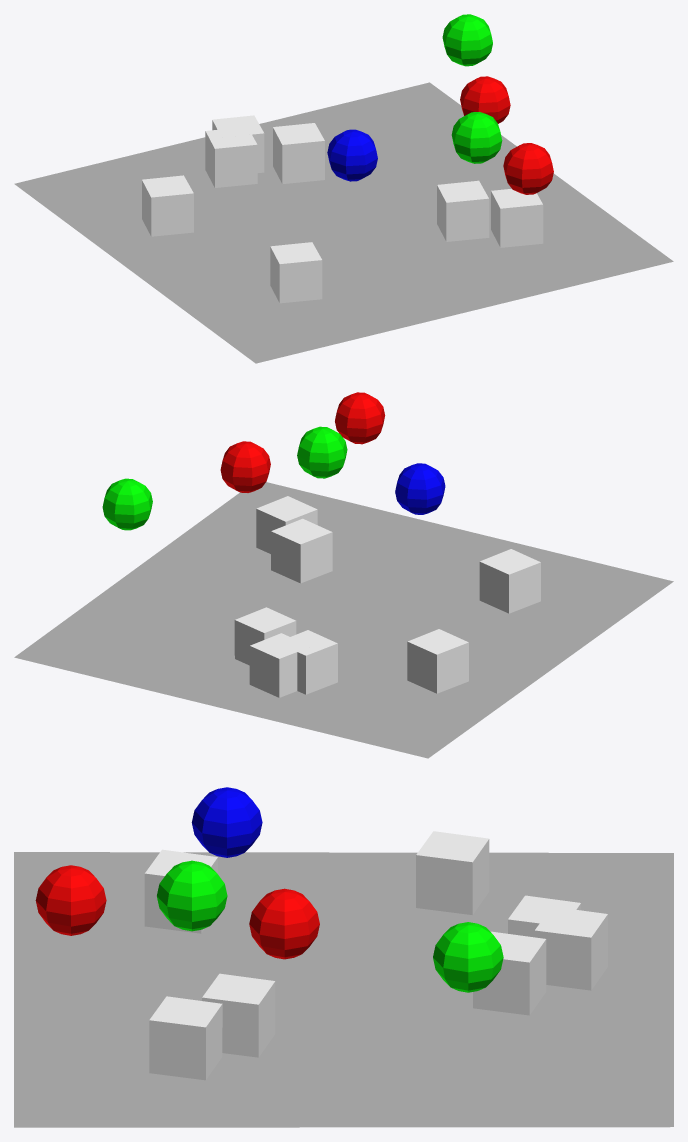
Rendered from Elevated_Combined_Scene.obj.
The picture shows the model from 3 angles, top to bottom: view 1: azimuth 30°, elevation 25°; view 2: azimuth 150°, elevation 25°; view 3: azimuth 270°, elevation 25°; orthographic projection. The views are drawn at different scales.
Parts seen in each view (by area): view 1: floor, cube1, cube3, cube5, cube4, cube6, cube7, sphere3, sphere4, sphere1, sphere2, sphere5 (+1 smaller); view 2: floor, cube1, cube3, cube5, cube2, cube7, sphere2, sphere4, sphere3, sphere5, sphere1, cube4 (+1 smaller); view 3: floor, cube6, cube5, cube2, cube1, cube4, sphere2, sphere4, sphere3, sphere1, sphere5, cube3 (+1 smaller).
Part boxes in pixels (x1=…): floor: x1=14, y1=82, x2=673, y2=363; cube1: x1=437, y1=180, x2=489, y2=241; cube3: x1=270, y1=242, x2=322, y2=303; cube5: x1=142, y1=175, x2=193, y2=236; cube4: x1=273, y1=123, x2=324, y2=183; cube6: x1=491, y1=188, x2=543, y2=247; cube7: x1=205, y1=129, x2=257, y2=187; sphere3: x1=327, y1=129, x2=377, y2=181; sphere4: x1=442, y1=14, x2=492, y2=66; sphere1: x1=503, y1=143, x2=553, y2=194; sphere2: x1=451, y1=112, x2=502, y2=163; sphere5: x1=460, y1=76, x2=510, y2=123; floor: x1=14, y1=482, x2=673, y2=758; cube1: x1=271, y1=518, x2=332, y2=583; cube3: x1=479, y1=549, x2=540, y2=613; cube5: x1=407, y1=629, x2=468, y2=693; cube2: x1=249, y1=633, x2=310, y2=697; cube7: x1=290, y1=630, x2=337, y2=694; sphere2: x1=297, y1=426, x2=347, y2=478; sphere4: x1=102, y1=478, x2=152, y2=530; sphere3: x1=395, y1=463, x2=445, y2=514; sphere5: x1=220, y1=441, x2=270, y2=492; sphere1: x1=335, y1=392, x2=385, y2=444; cube4: x1=234, y1=607, x2=296, y2=665; floor: x1=14, y1=852, x2=673, y2=1127; cube6: x1=149, y1=996, x2=222, y2=1080; cube5: x1=416, y1=831, x2=489, y2=914; cube2: x1=534, y1=906, x2=607, y2=990; cube1: x1=202, y1=973, x2=275, y2=1057; cube4: x1=473, y1=931, x2=546, y2=1015; sphere2: x1=157, y1=860, x2=227, y2=931; sphere4: x1=433, y1=922, x2=503, y2=992; sphere3: x1=191, y1=787, x2=262, y2=857; sphere1: x1=35, y1=865, x2=106, y2=935; sphere5: x1=249, y1=888, x2=319, y2=959; cube3: x1=144, y1=849, x2=217, y2=933.
Bounding box in the file's own units: 5.53 × 1.66 × 5.59.
